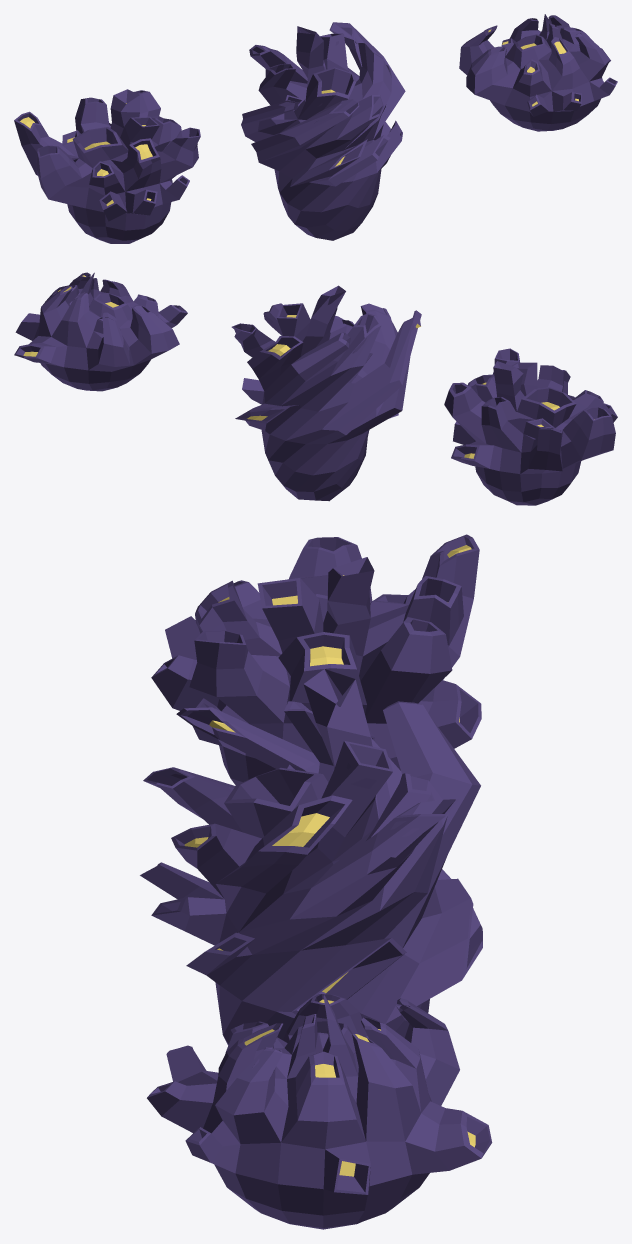
The model's file is CoralSet_04.fbx.
3 views of the same model, one above another, from view 1: azimuth 30°, elevation 25°; view 2: azimuth 150°, elevation 25°; view 3: azimuth 270°, elevation 25° (orthographic). The views are drawn at different scales.
Visible parts, largest first — view 1: Coral_D_03, Coral_D_04, Coral_D_02; view 2: Coral_D_03, Coral_D_04, Coral_D_02; view 3: Coral_D_03, Coral_D_02, Coral_D_04.
Boxes of the visible parts, <box> form: Coral_D_03: <box>241,22,405,240</box>; Coral_D_04: <box>14,89,200,243</box>; Coral_D_02: <box>459,14,617,131</box>; Coral_D_03: <box>231,285,421,501</box>; Coral_D_04: <box>444,348,617,505</box>; Coral_D_02: <box>14,272,187,391</box>; Coral_D_03: <box>140,669,482,1045</box>; Coral_D_02: <box>147,994,492,1229</box>; Coral_D_04: <box>151,534,481,785</box>.
Size of the model in its own units: 2099 by 742 by 555.
